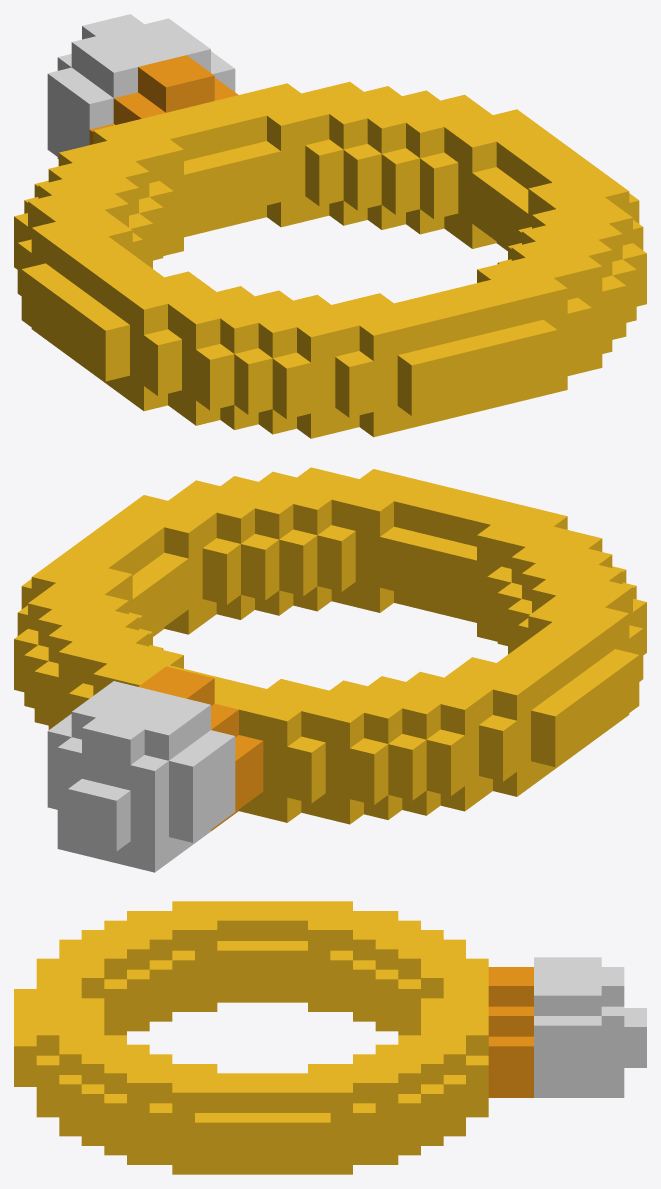
Rendered from item_RING_DIAMOND.glb.
3 views of the same model, one above another, from view 1: azimuth 30°, elevation 25°; view 2: azimuth 150°, elevation 25°; view 3: azimuth 270°, elevation 25° (orthographic). The views are drawn at different scales.
Visible parts, largest first — view 1: item_RING_DIAMOND; view 2: item_RING_DIAMOND; view 3: item_RING_DIAMOND.
Boxes of the visible parts, box(x1,y1,x2,y2) form: item_RING_DIAMOND: box(14, 14, 646, 438); item_RING_DIAMOND: box(14, 467, 646, 872); item_RING_DIAMOND: box(14, 901, 646, 1174).
Bounding box in the file's own units: 0.25 × 0.0568 × 0.3182.
Materials: 1 (1 with a texture image).
